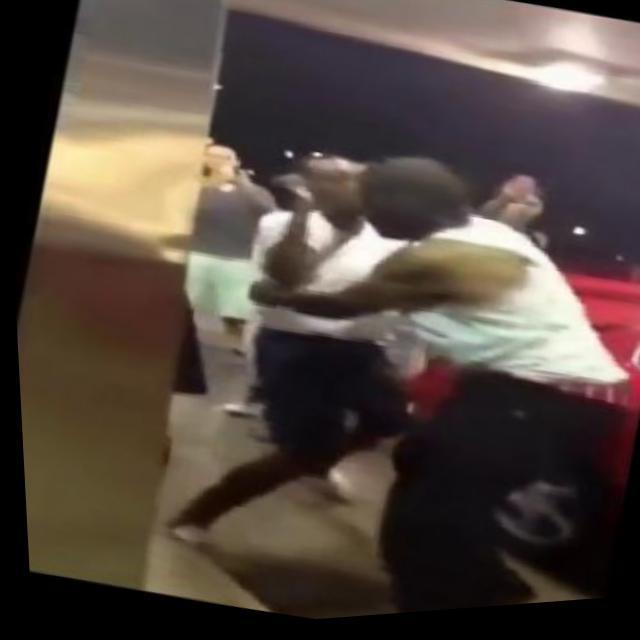fight: (157, 113, 640, 631)
